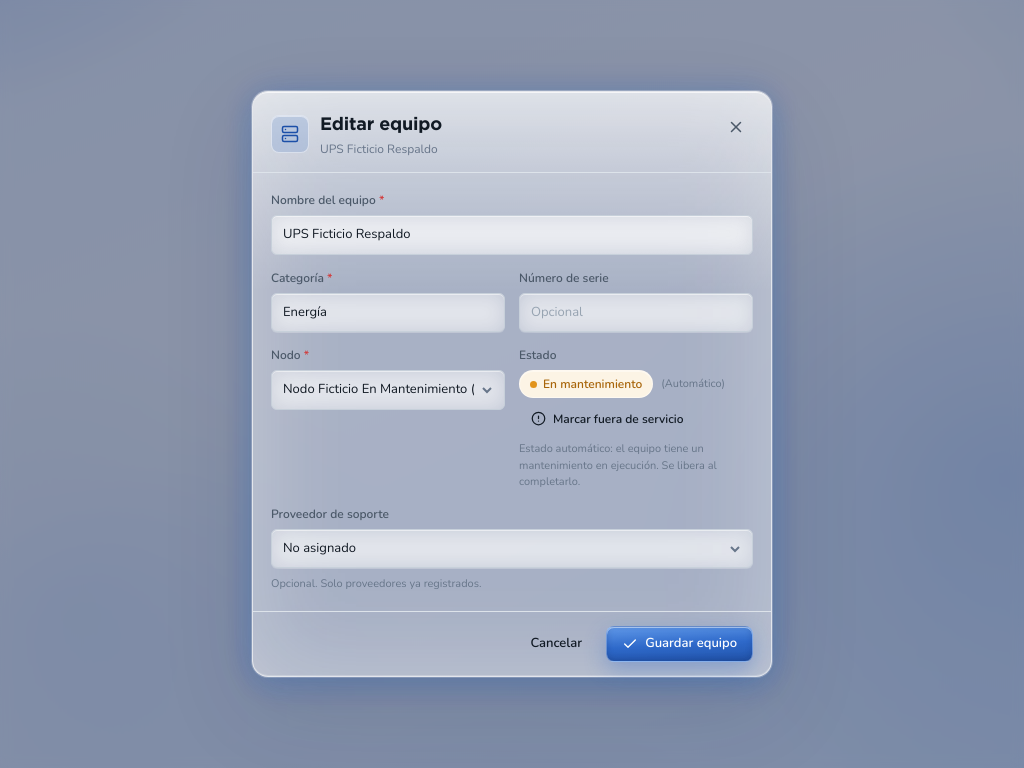
Test: EquipmentFormModal — marcar fuera de servicio durante un mantenimiento › al usarla muestra el estado pendiente y sigue sin ofrecer "Operativo"
Expected: the field with placeholder "Switch core" is shown, 271,215 -> 753,255
Click the button "Marcar fuera de servicio" at (607, 419), box 519,404 -> 696,433
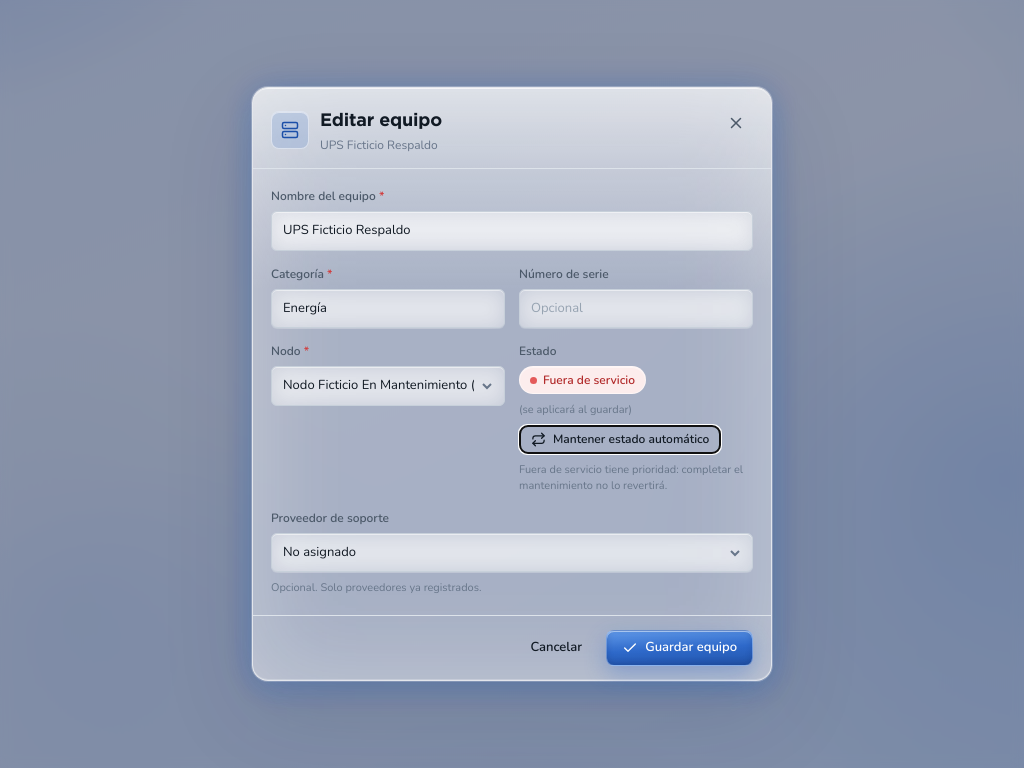
Now the text "Fuera de servicio" is shown, box 519,366 -> 646,394
Now the text "(se aplicará al guardar)" is shown, box 519,402 -> 632,419
